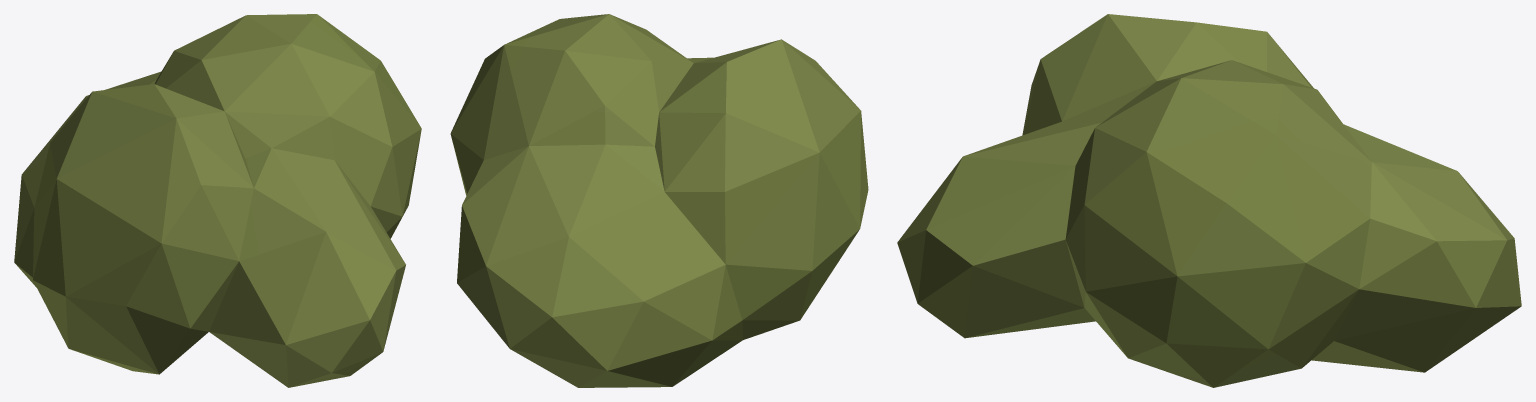
File: Bush1.fbx
3 renders of one model, left to right at view 1: azimuth 30°, elevation 25°; view 2: azimuth 150°, elevation 25°; view 3: azimuth 270°, elevation 25°, orthographic. The views are drawn at different scales.
Visible parts, largest first — view 1: Cylinder.001; view 2: Cylinder.001; view 3: Cylinder.001.
Part boxes in pixels (x1=…): Cylinder.001: x1=14, y1=14, x2=421, y2=387; Cylinder.001: x1=450, y1=14, x2=868, y2=387; Cylinder.001: x1=897, y1=14, x2=1521, y2=387.
Size of the model in its own units: 360 by 273 by 468.
